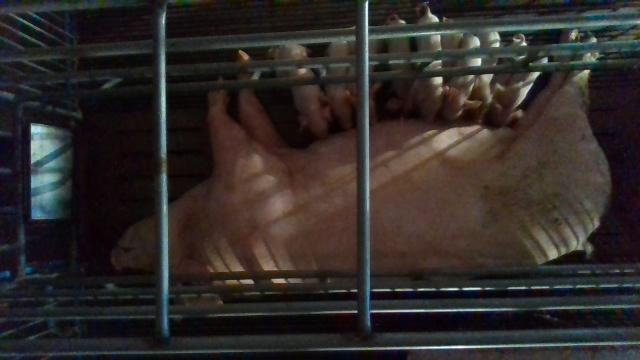piglet: (275, 43, 332, 139), (487, 55, 548, 126), (415, 2, 445, 125), (442, 33, 482, 122), (468, 28, 501, 120), (322, 39, 353, 131), (385, 13, 412, 118)
sow-sleep-lactate: (108, 29, 613, 305)
